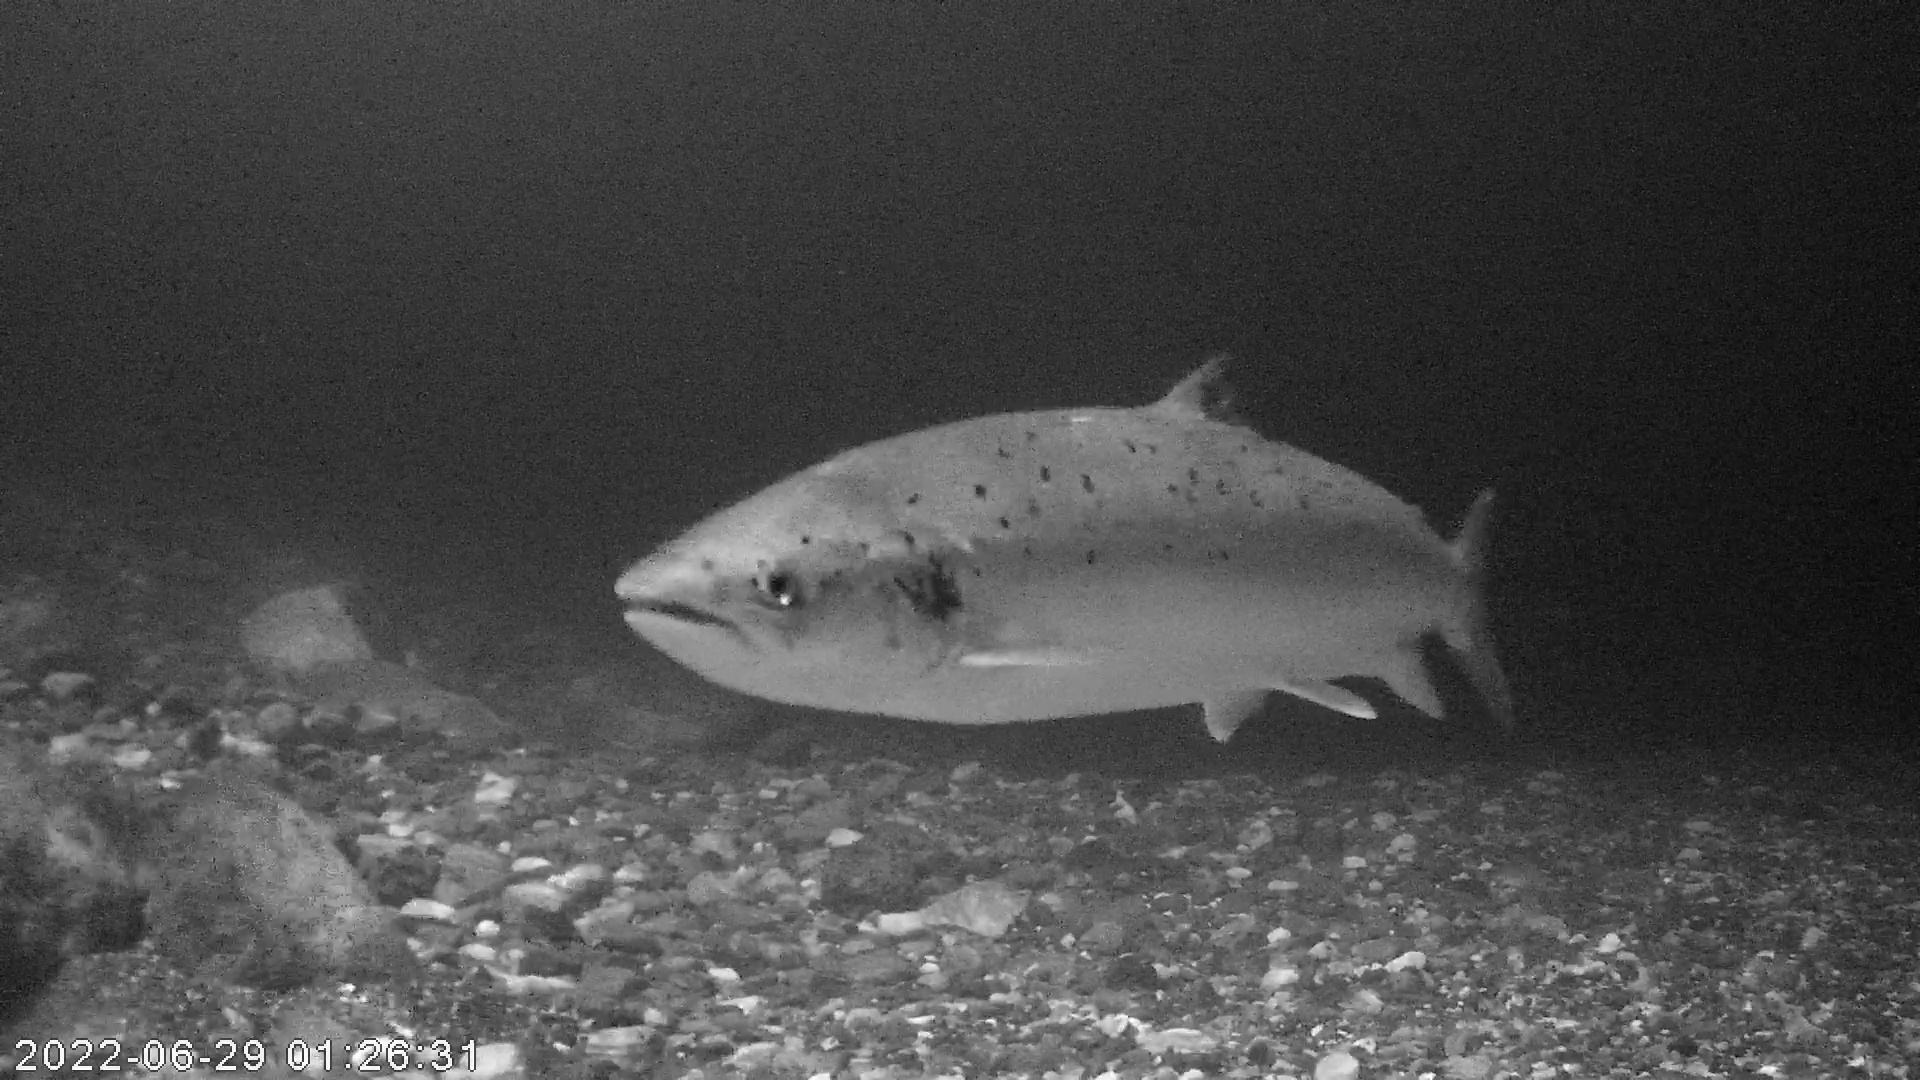salmon: (604, 342, 1523, 748)
